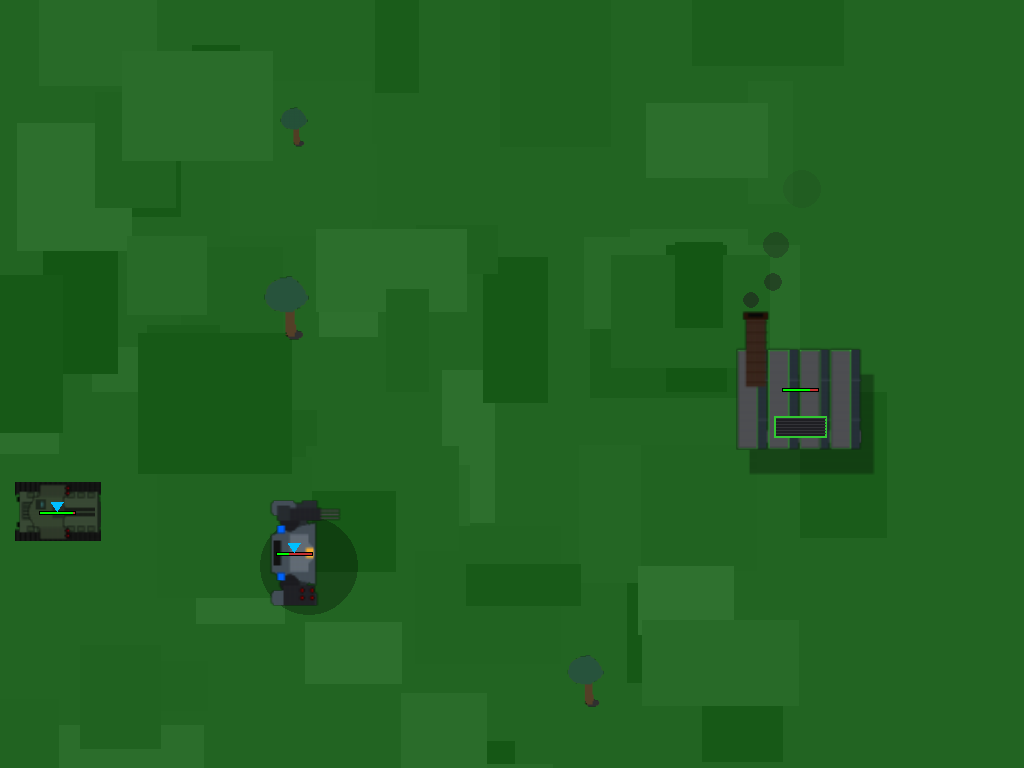FactoryBuilding: (720, 307, 804, 467)
HeavyMech: (258, 516, 329, 587)
TerminatorIFV: (24, 477, 90, 543)
